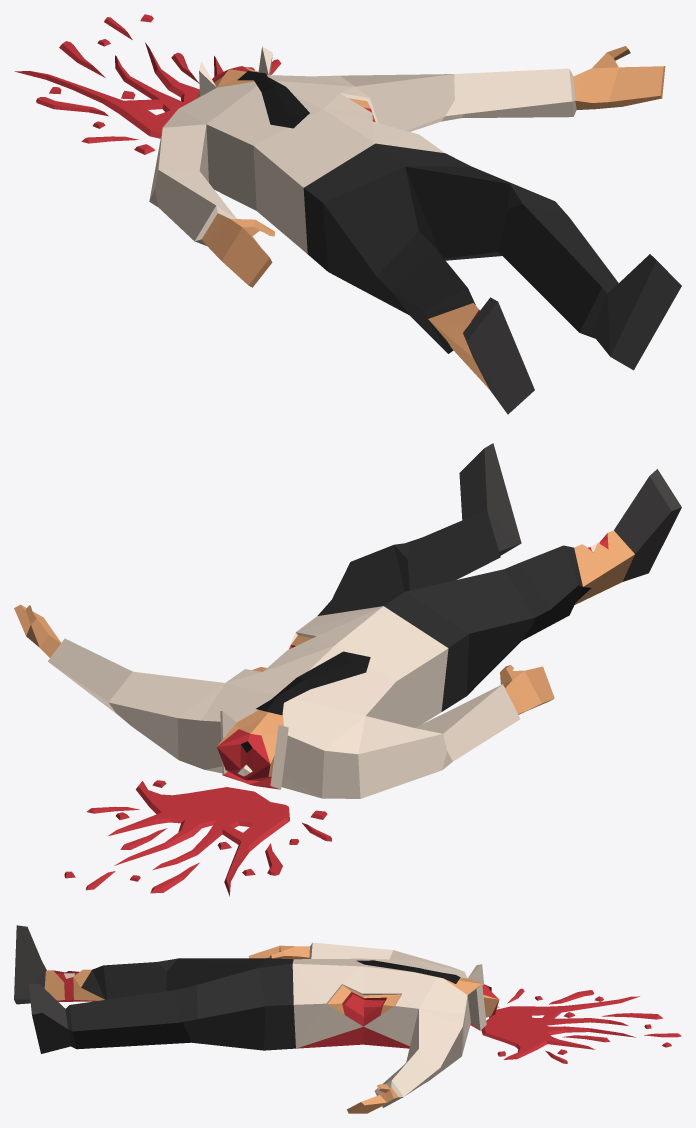
The model's file is apocalypse_man-tie-dead-a.fbx.
The picture shows the model from 3 angles, top to bottom: view 1: azimuth 30°, elevation 25°; view 2: azimuth 150°, elevation 25°; view 3: azimuth 270°, elevation 25°; orthographic projection. The views are drawn at different scales.
Visible parts, largest first — view 1: apocalypse_man_tie_dead_a; view 2: apocalypse_man_tie_dead_a; view 3: apocalypse_man_tie_dead_a.
Boxes of the visible parts, x1,y1,x2,y2 form: apocalypse_man_tie_dead_a: (14, 14, 681, 414); apocalypse_man_tie_dead_a: (14, 443, 681, 896); apocalypse_man_tie_dead_a: (14, 925, 681, 1113).
Bounding box in the file's own units: 116 × 26.22 × 200.
